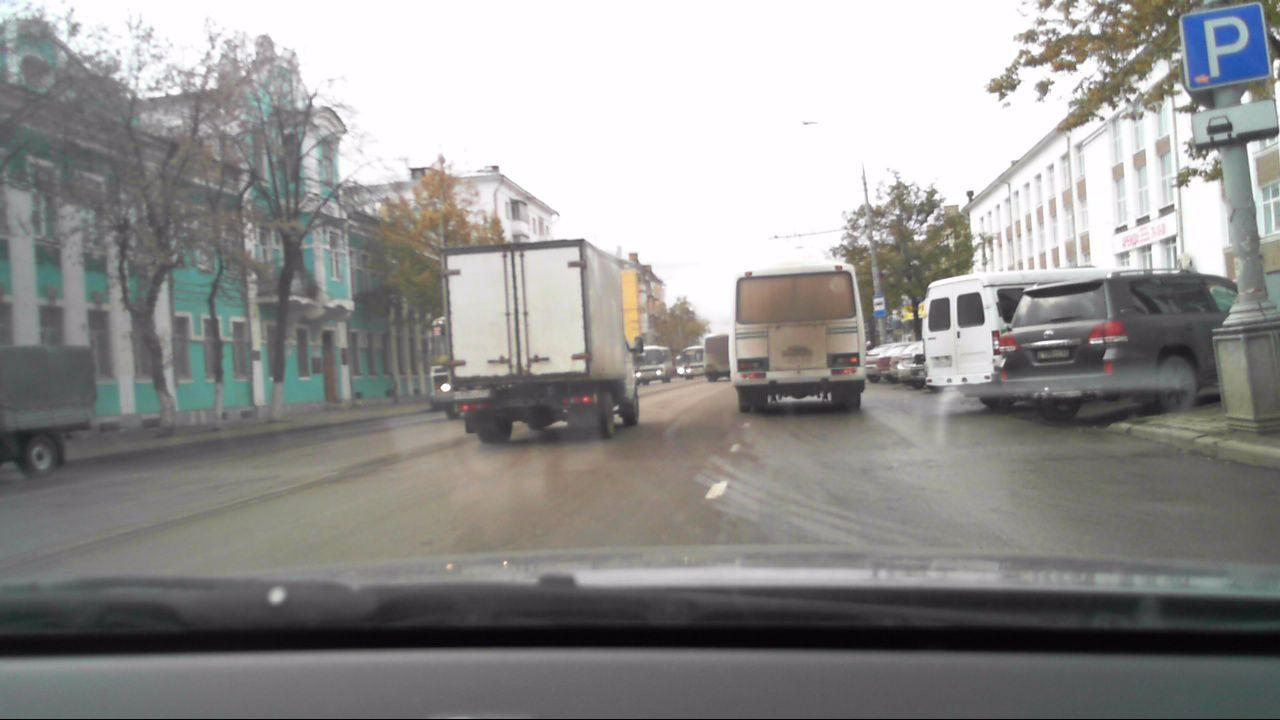6_4: (1176, 0, 1280, 91)
8_6_1: (1189, 101, 1279, 142)
